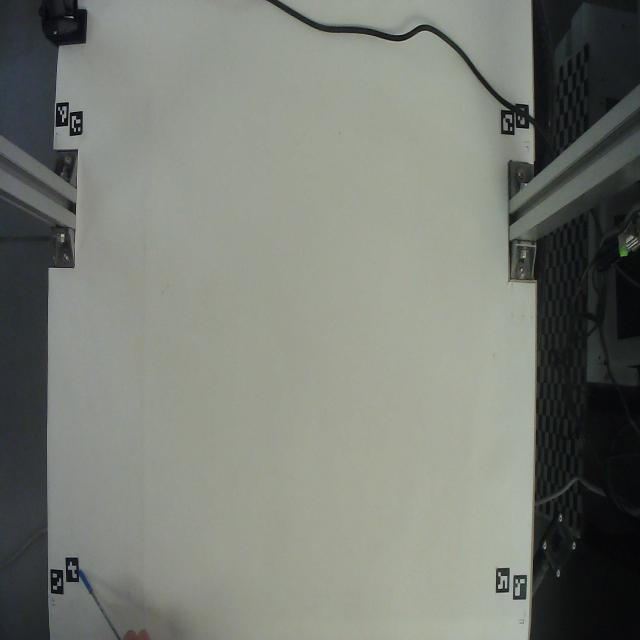Pres: (73, 555, 157, 640)
